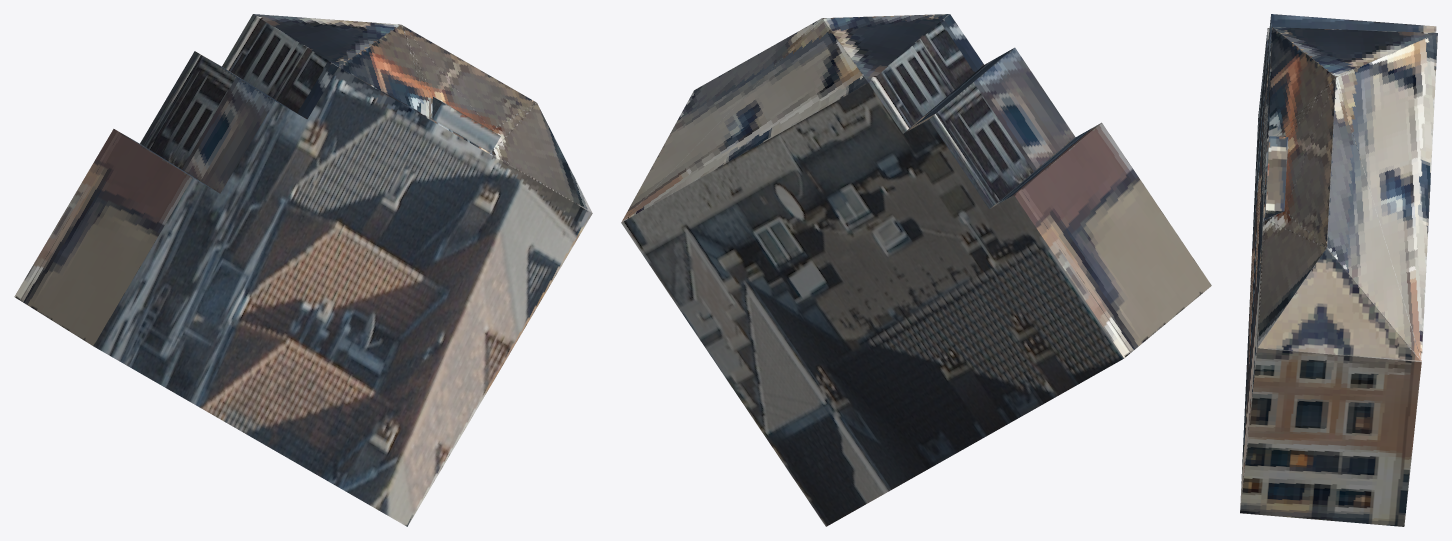
3 renders of one model, left to right at view 1: azimuth 30°, elevation 25°; view 2: azimuth 150°, elevation 25°; view 3: azimuth 270°, elevation 25°, orthographic.
Parts seen in each view (by area): view 1: BAG_0599100000671705 (×4); view 2: BAG_0599100000671705 (×3); view 3: BAG_0599100000671705 (×5).
Part boxes in pixels (x1,y1,x2,y2): BAG_0599100000671705 (×4): [14, 14, 592, 526]; BAG_0599100000671705 (×3): [621, 14, 1211, 526]; BAG_0599100000671705 (×5): [1240, 14, 1437, 526].
Size of the model in its own units: 19.03 by 17.11 by 6.5.
Materials: 5 (5 with a texture image).
